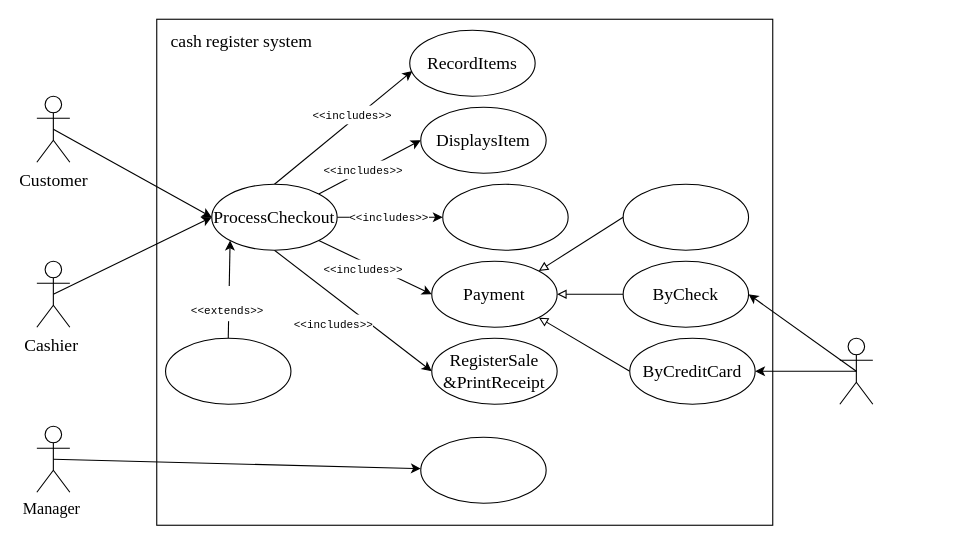
Image size: 956x545. Some labels were removed from this diagram. The centre of each missing label's shape, as x and y in pixels:
Authorization Center: point 856,370
ByCash: point 685,216
DisplaysTotal: point 505,216
Initializes: point 483,469
UseDiscount Coupon: point 227,370
